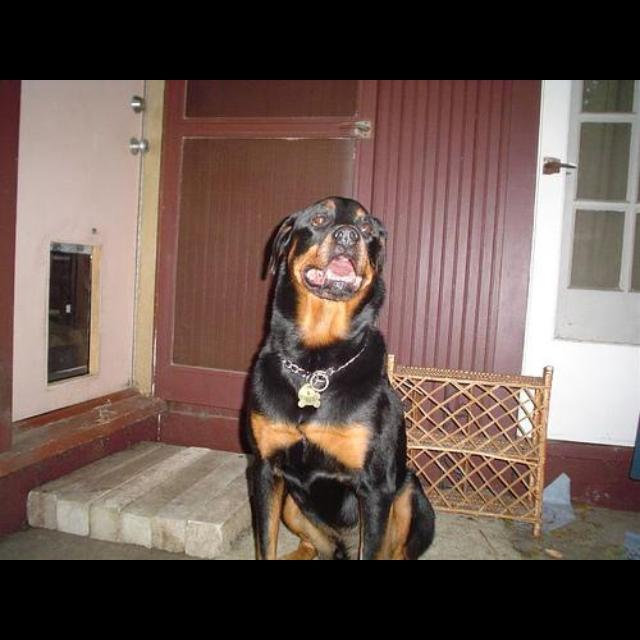rottweiler: (238, 195, 436, 559)
